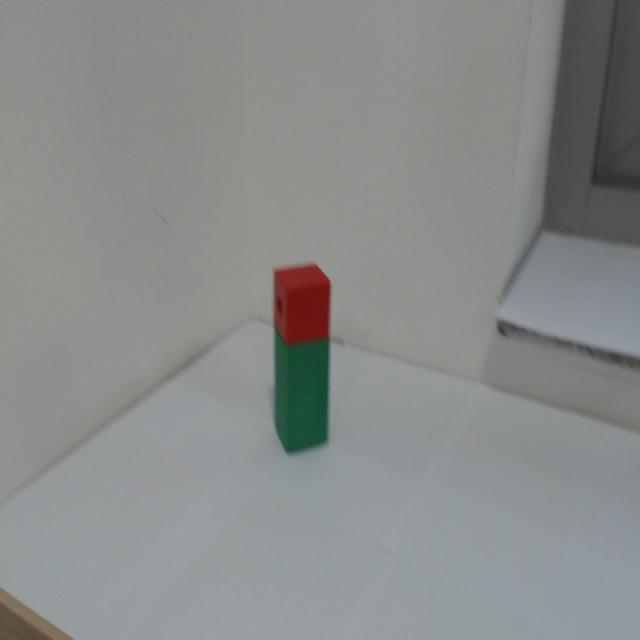cube: (276, 266, 339, 345)
